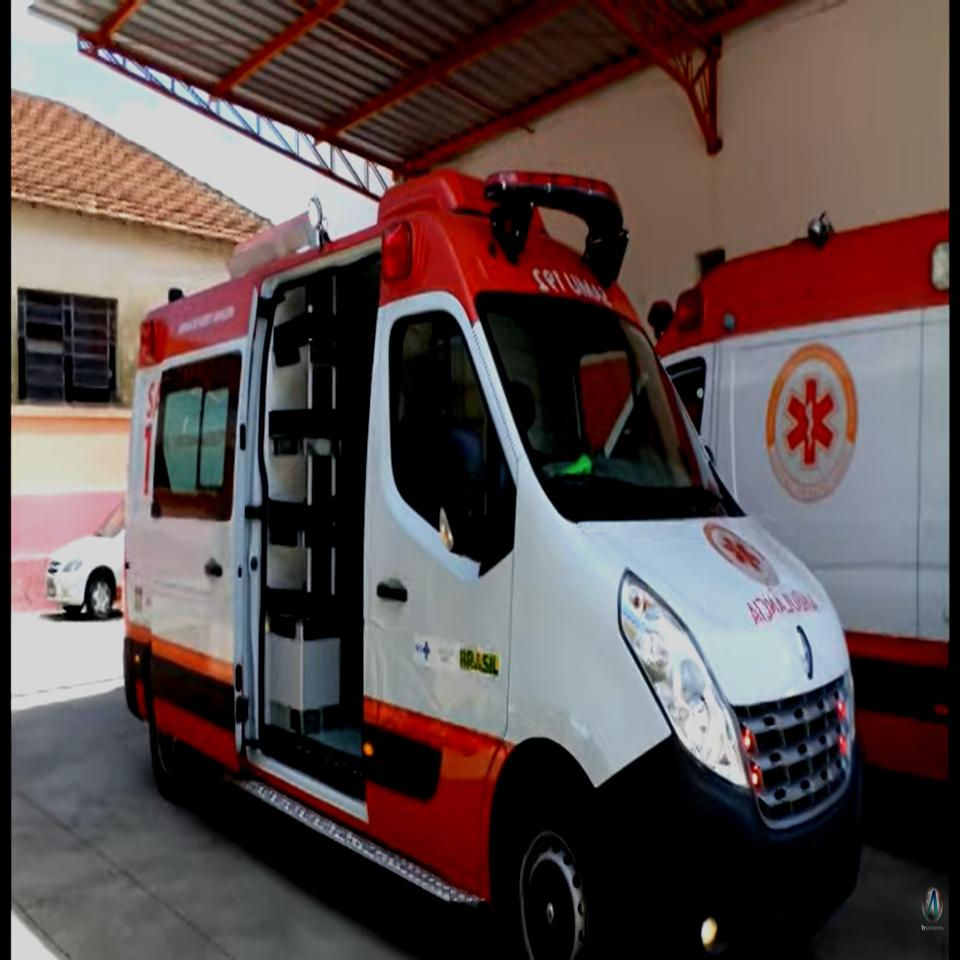ambulancia: (118, 163, 870, 960)
